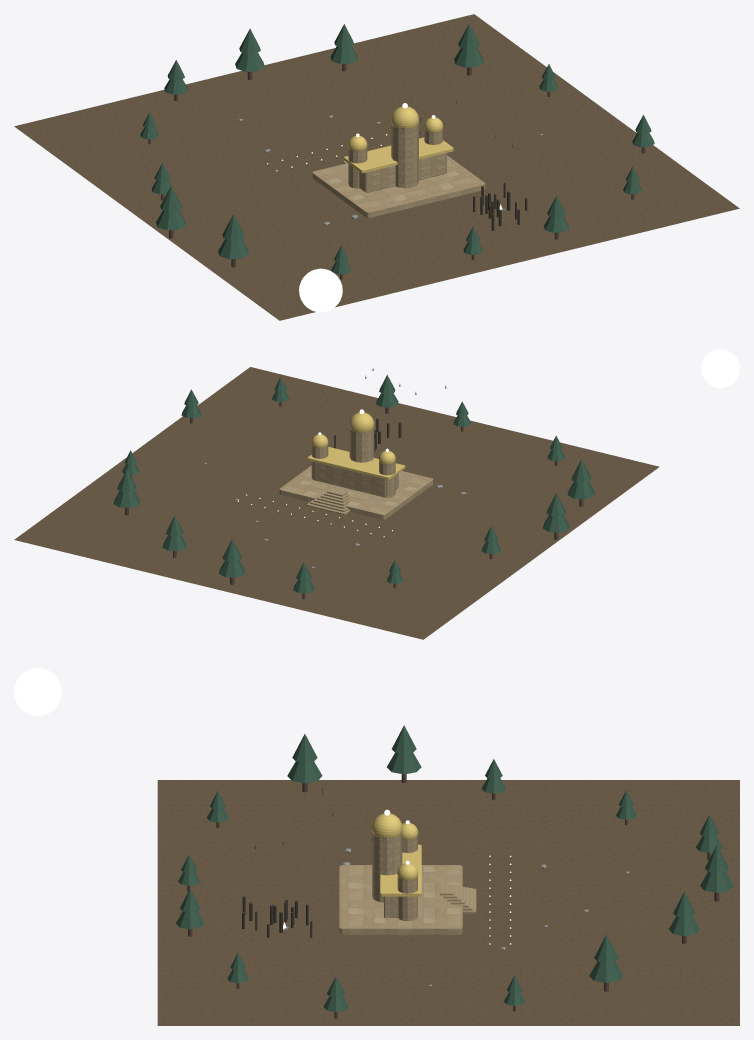
File: adi-12-indraprastha.glb
The picture shows the model from 3 angles, top to bottom: view 1: azimuth 30°, elevation 25°; view 2: azimuth 150°, elevation 25°; view 3: azimuth 270°, elevation 25°; orthographic projection. The views are drawn at different scales.
Visible parts, largest first — view 1: GEO-ground, GEO-platform, GEO-tower, GEO-sun, GEO-greathall, GEO-goldband, GEO-dome, GEO-tower.001; view 2: GEO-ground, GEO-platform, GEO-greathall, GEO-sun, GEO-goldband, GEO-tower; view 3: GEO-ground, GEO-platform, GEO-sun, GEO-tower, GEO-goldband, GEO-tower.002, GEO-dome, GEO-tree-canopy.016.
Boxes of the visible parts, <box> form: GEO-ground: <box>14,14,739,320</box>; GEO-platform: <box>312,155,485,217</box>; GEO-tower: <box>391,123,418,188</box>; GEO-sun: <box>299,268,342,312</box>; GEO-greathall: <box>359,153,446,192</box>; GEO-goldband: <box>344,137,453,173</box>; GEO-dome: <box>391,106,418,129</box>; GEO-tower.001: <box>348,147,367,188</box>; GEO-ground: <box>14,367,659,639</box>; GEO-platform: <box>279,465,433,519</box>; GEO-greathall: <box>313,462,398,497</box>; GEO-sun: <box>701,349,739,387</box>; GEO-goldband: <box>307,447,405,479</box>; GEO-tower: <box>349,427,374,462</box>; GEO-ground: <box>157,780,739,1025</box>; GEO-platform: <box>339,865,462,934</box>; GEO-sun: <box>14,668,61,715</box>; GEO-tower: <box>372,832,402,902</box>; GEO-goldband: <box>380,844,421,896</box>; GEO-tower.002: <box>397,876,417,921</box>; GEO-dome: <box>372,813,402,838</box>; GEO-tree-canopy.016: <box>287,761,322,783</box>.
Bounding box in the file's own units: 182 × 35.35 × 212.
16 materials, 2 textured.
